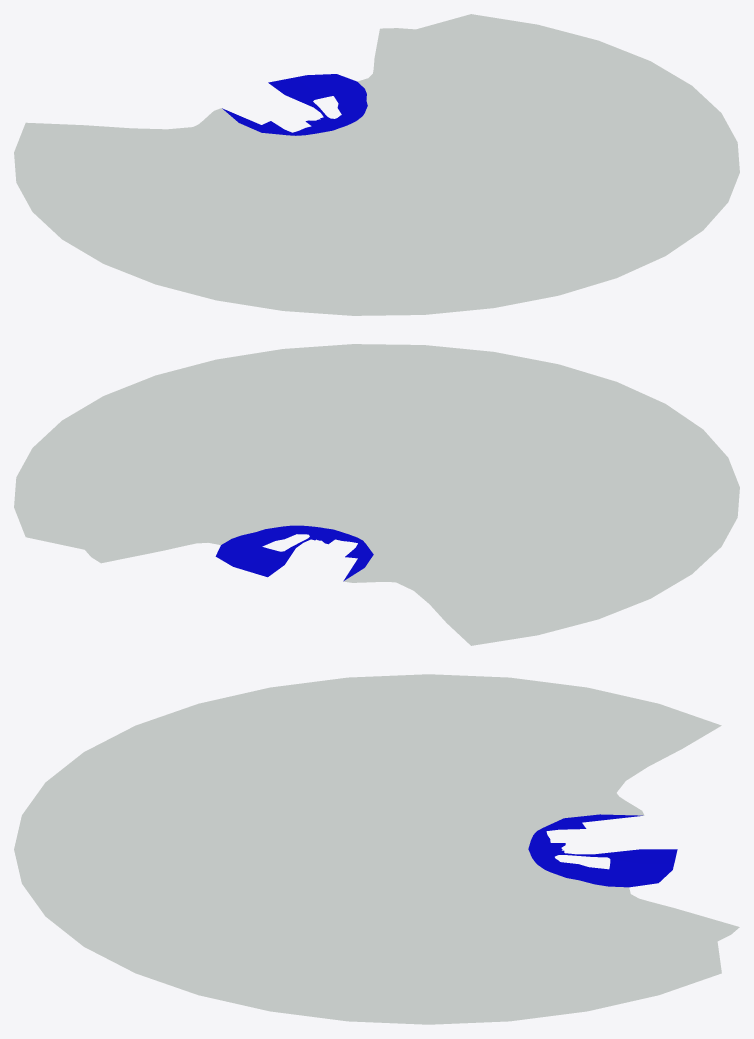
The picture shows the model from 3 angles, top to bottom: view 1: azimuth 30°, elevation 25°; view 2: azimuth 150°, elevation 25°; view 3: azimuth 270°, elevation 25°; orthographic projection. The views are drawn at different scales.
Parts seen in each view (by area): view 1: G:\FFXIV-MapTools\exports\k5t1\bg\ex4\03_kld_k5\twn\k5t1\bgp (×10); view 2: G:\FFXIV-MapTools\exports\k5t1\bg\ex4\03_kld_k5\twn\k5t1\bgp (×10); view 3: G:\FFXIV-MapTools\exports\k5t1\bg\ex4\03_kld_k5\twn\k5t1\bgp (×10).
Boxes of the visible parts, x1=… form: G:\FFXIV-MapTools\exports\k5t1\bg\ex4\03_kld_k5\twn\k5t1\bgp (×10): x1=14, y1=14, x2=739, y2=315; G:\FFXIV-MapTools\exports\k5t1\bg\ex4\03_kld_k5\twn\k5t1\bgp (×10): x1=14, y1=344, x2=739, y2=645; G:\FFXIV-MapTools\exports\k5t1\bg\ex4\03_kld_k5\twn\k5t1\bgp (×10): x1=14, y1=674, x2=739, y2=1024.
Size of the model in its own units: 8000 by 0 by 7002.
